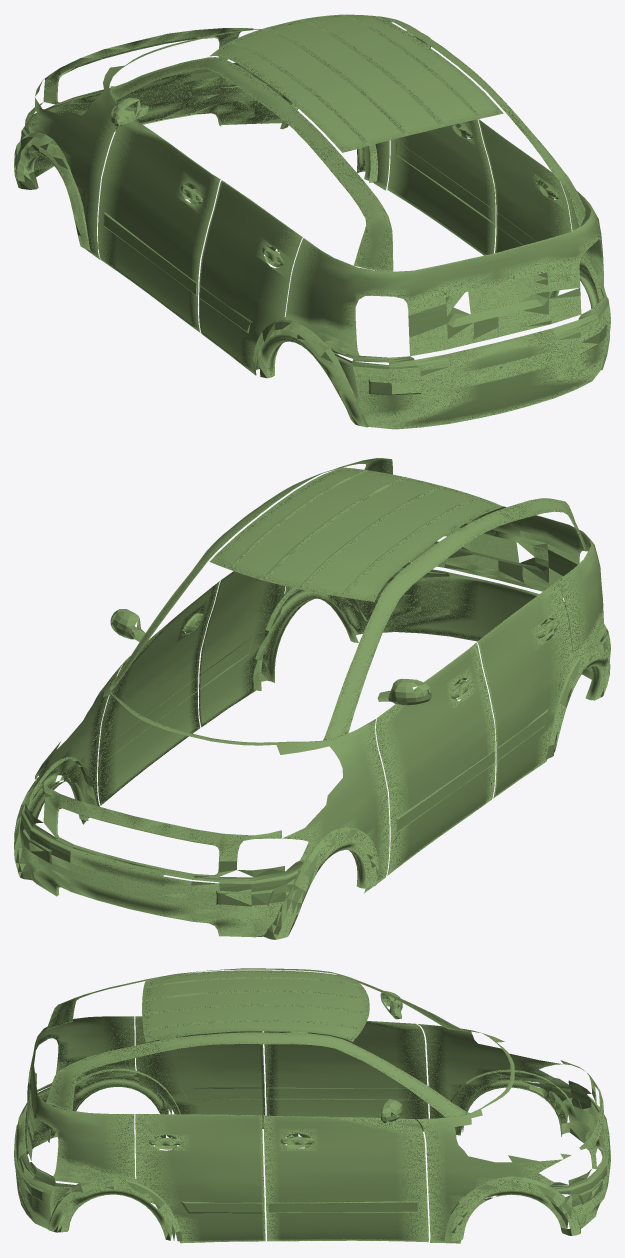
The model's file is bezmaski.fbx.
3 renders of one model, top to bottom at view 1: azimuth 30°, elevation 25°; view 2: azimuth 150°, elevation 25°; view 3: azimuth 270°, elevation 25°, orthographic. The views are drawn at different scales.
Visible parts, largest first — view 1: Object_11; view 2: Object_11; view 3: Object_11.
Part boxes in pixels (x1=…): Object_11: x1=14, y1=14, x2=610, y2=429; Object_11: x1=14, y1=458, x2=610, y2=939; Object_11: x1=14, y1=968, x2=610, y2=1243.
Bounding box in the file's own units: 14897 × 10901 × 30669.
